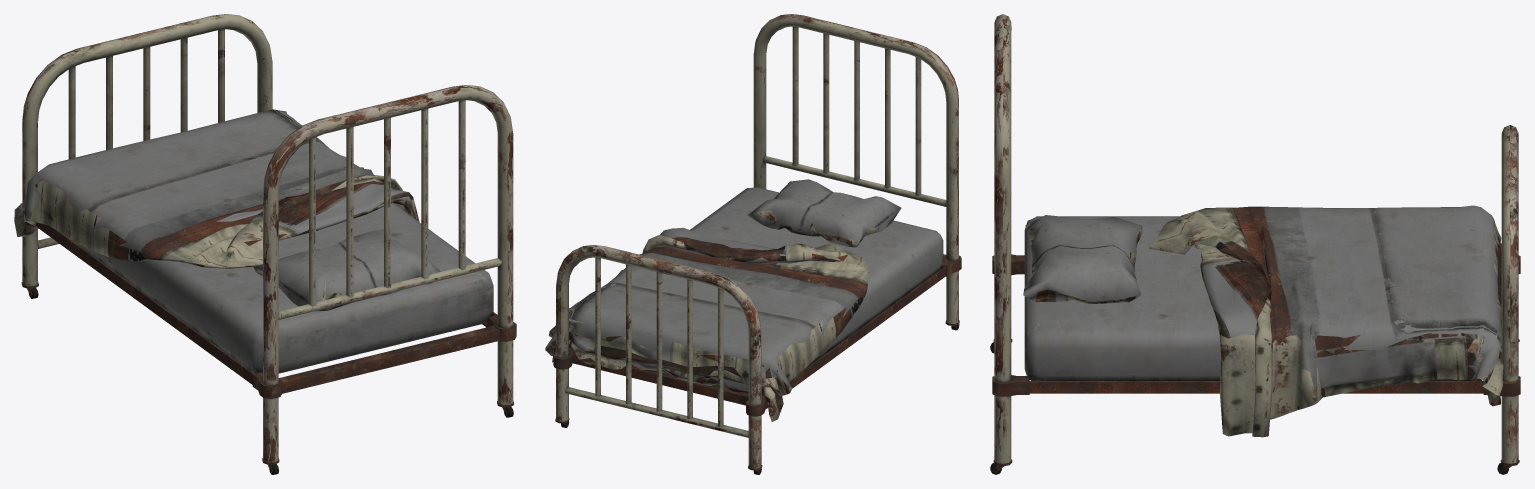
File: bed.glb
3 renders of one model, left to right at view 1: azimuth 30°, elevation 25°; view 2: azimuth 150°, elevation 25°; view 3: azimuth 270°, elevation 25°, orthographic. The views are drawn at different scales.
Visible parts, largest first — view 1: low_Pillow_1; view 2: low_Pillow_1; view 3: low_Pillow_1.
Boxes of the visible parts, x1,y1,x2,y2 form: low_Pillow_1: (14,14,516,474); low_Pillow_1: (545,14,961,474); low_Pillow_1: (990,14,1520,474).
Bounding box in the file's own units: 1.23 × 1.39 × 1.87.
Materials: 1 (1 with a texture image).
